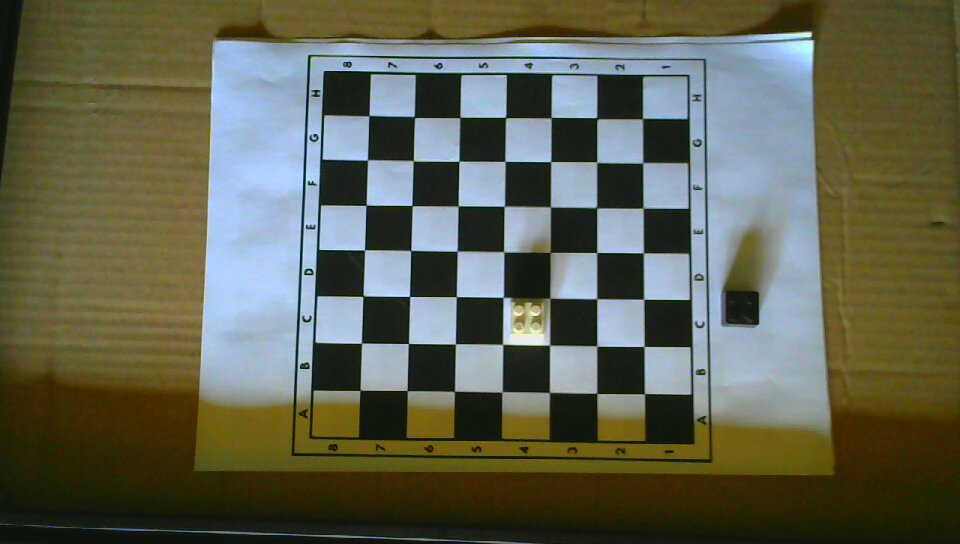bp: (721, 287, 760, 329)
wp: (509, 296, 547, 341)
